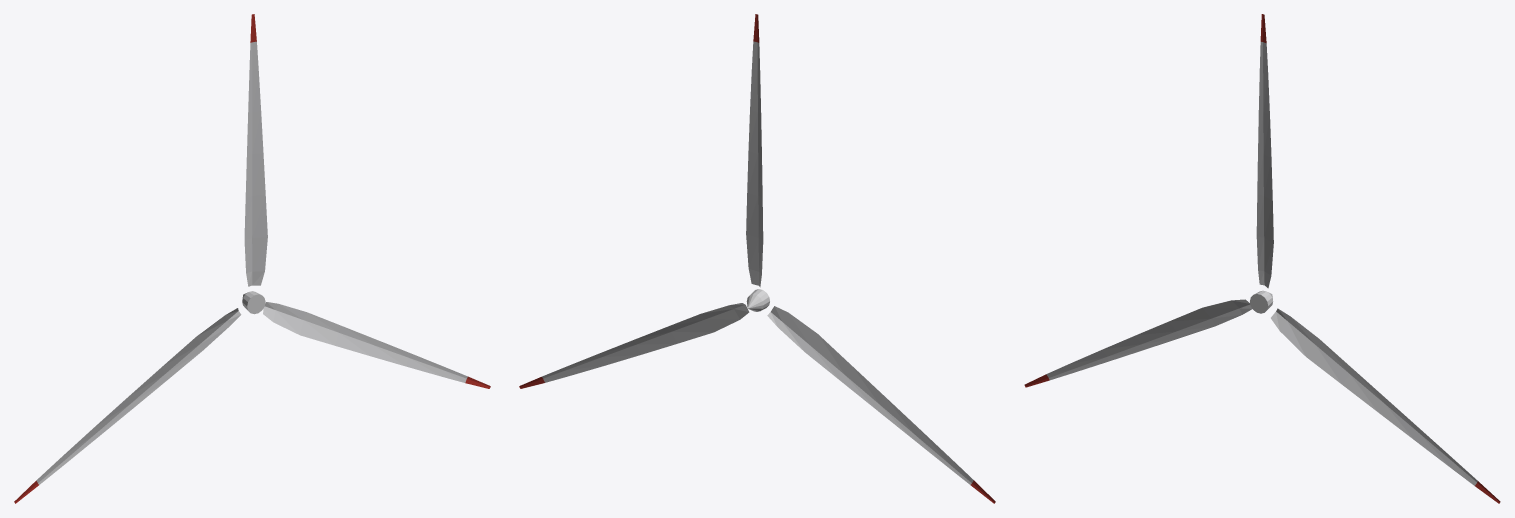
Rendered from wind-turbine-rotor.glb.
The picture shows the model from 3 angles, left to right: view 1: azimuth 30°, elevation 25°; view 2: azimuth 150°, elevation 25°; view 3: azimuth 330°, elevation 25°; orthographic projection.
Parts seen in each view (by area): view 1: wind-turbine-rotor; view 2: wind-turbine-rotor; view 3: wind-turbine-rotor.
Boxes of the visible parts, left/top/right/bottom form: wind-turbine-rotor: left=14, top=14, right=490, bottom=503; wind-turbine-rotor: left=519, top=14, right=995, bottom=503; wind-turbine-rotor: left=1024, top=14, right=1500, bottom=503.
Size of the model in its own units: 74.7 by 64.75 by 3.6.
